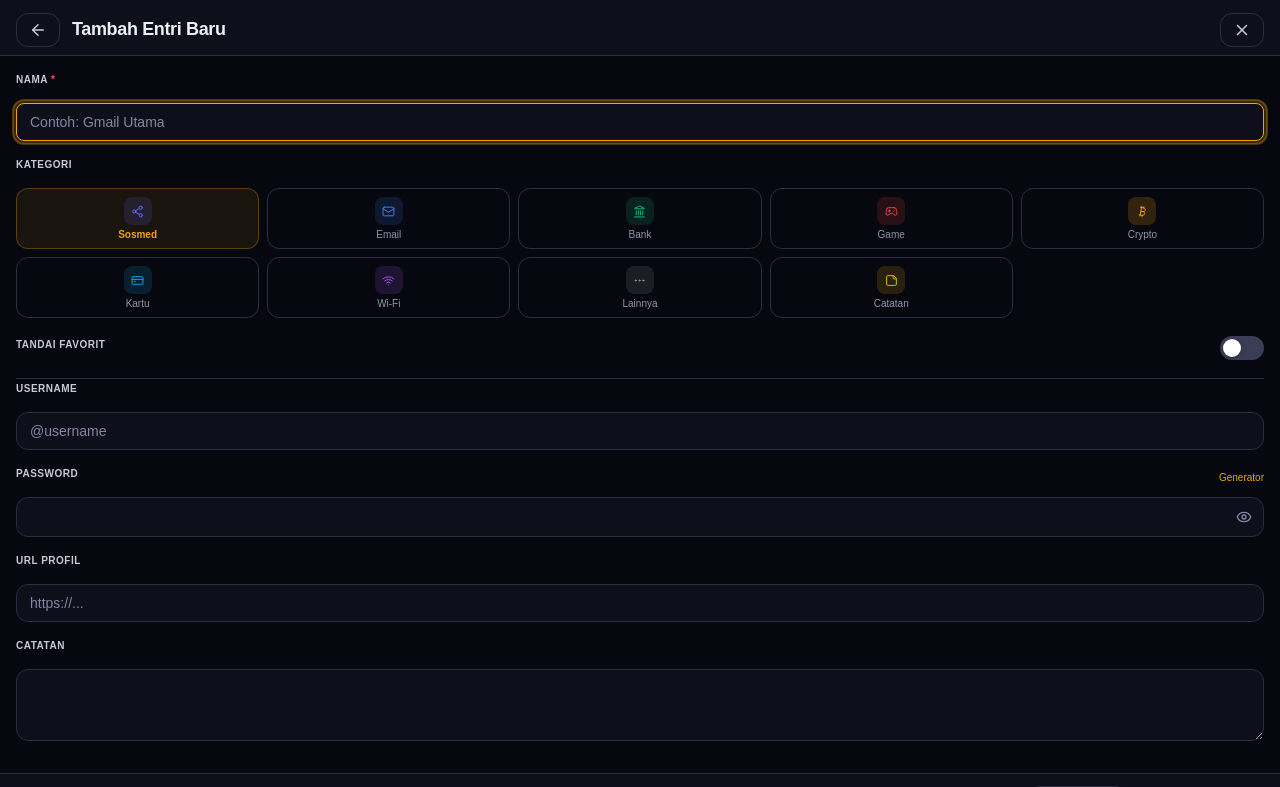
Test: EntryForm — Verifikasi 2 Langkah kategori Email (v1.10.0) › field pemulihan & kode cadangan tersembunyi sampai toggle 2FA diaktifkan
The image size is (1280, 787).
Click the button titled "Email": (389, 218) [267,188,510,249]
(page scrolled)
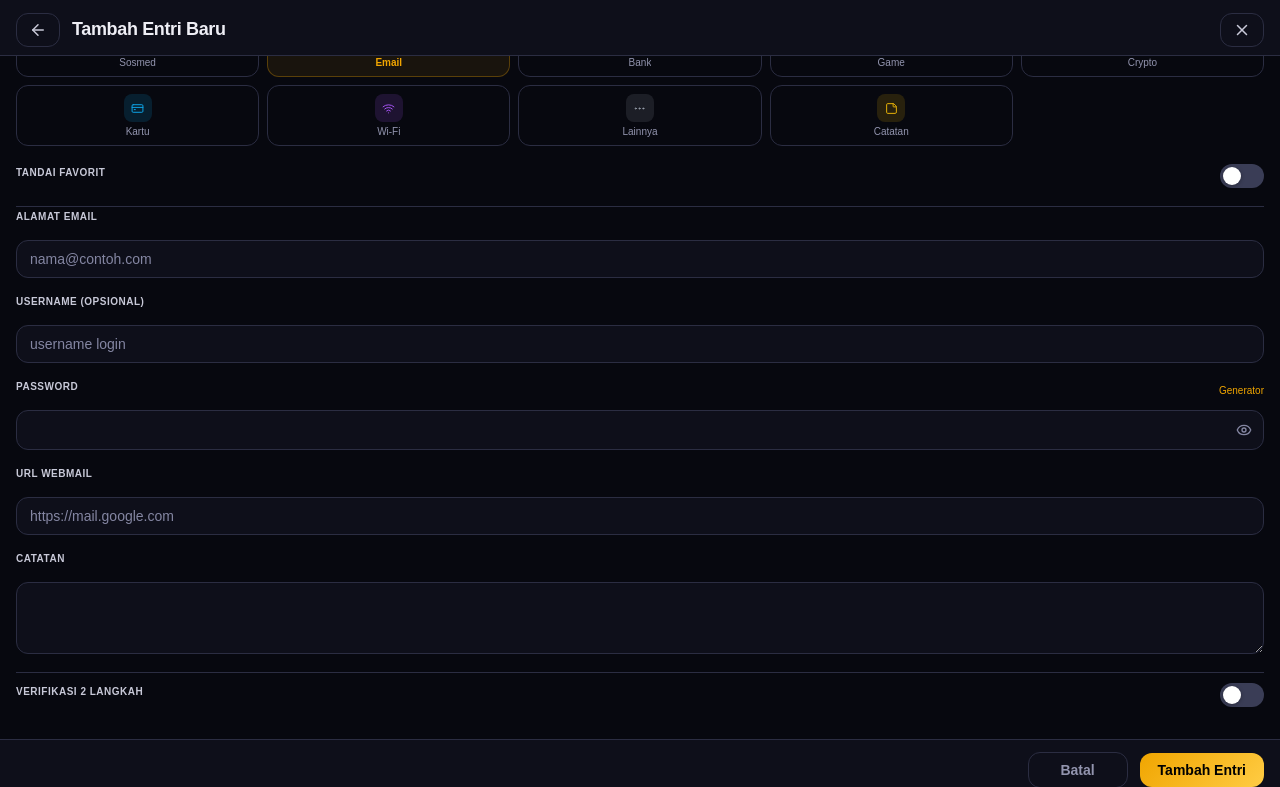
Expected: the field labelled "Email Pemulihan" is not shown
Expected: the text "Kode Cadangan" is not shown
Click the switch named "Verifikasi 2 Langkah": (1242, 695) [1220,683,1264,707]
(page scrolled)
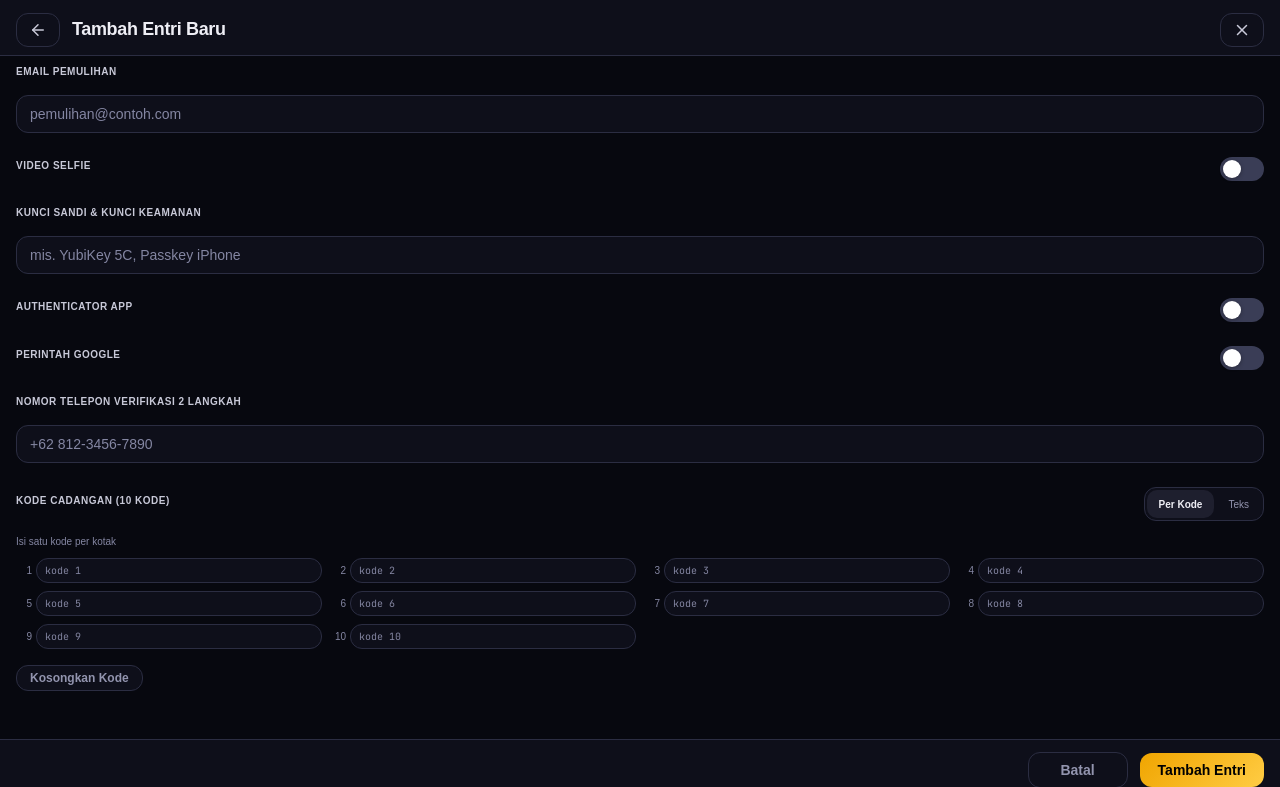
Expected: the field labelled "Nomor Telepon Pemulihan" is shown, [16,2,1264,40]
Expected: the field labelled "Email Pemulihan" is shown, [16,95,1264,133]
Expected: the text "Kode Cadangan (10 kode)" is shown, [16,492,170,508]
